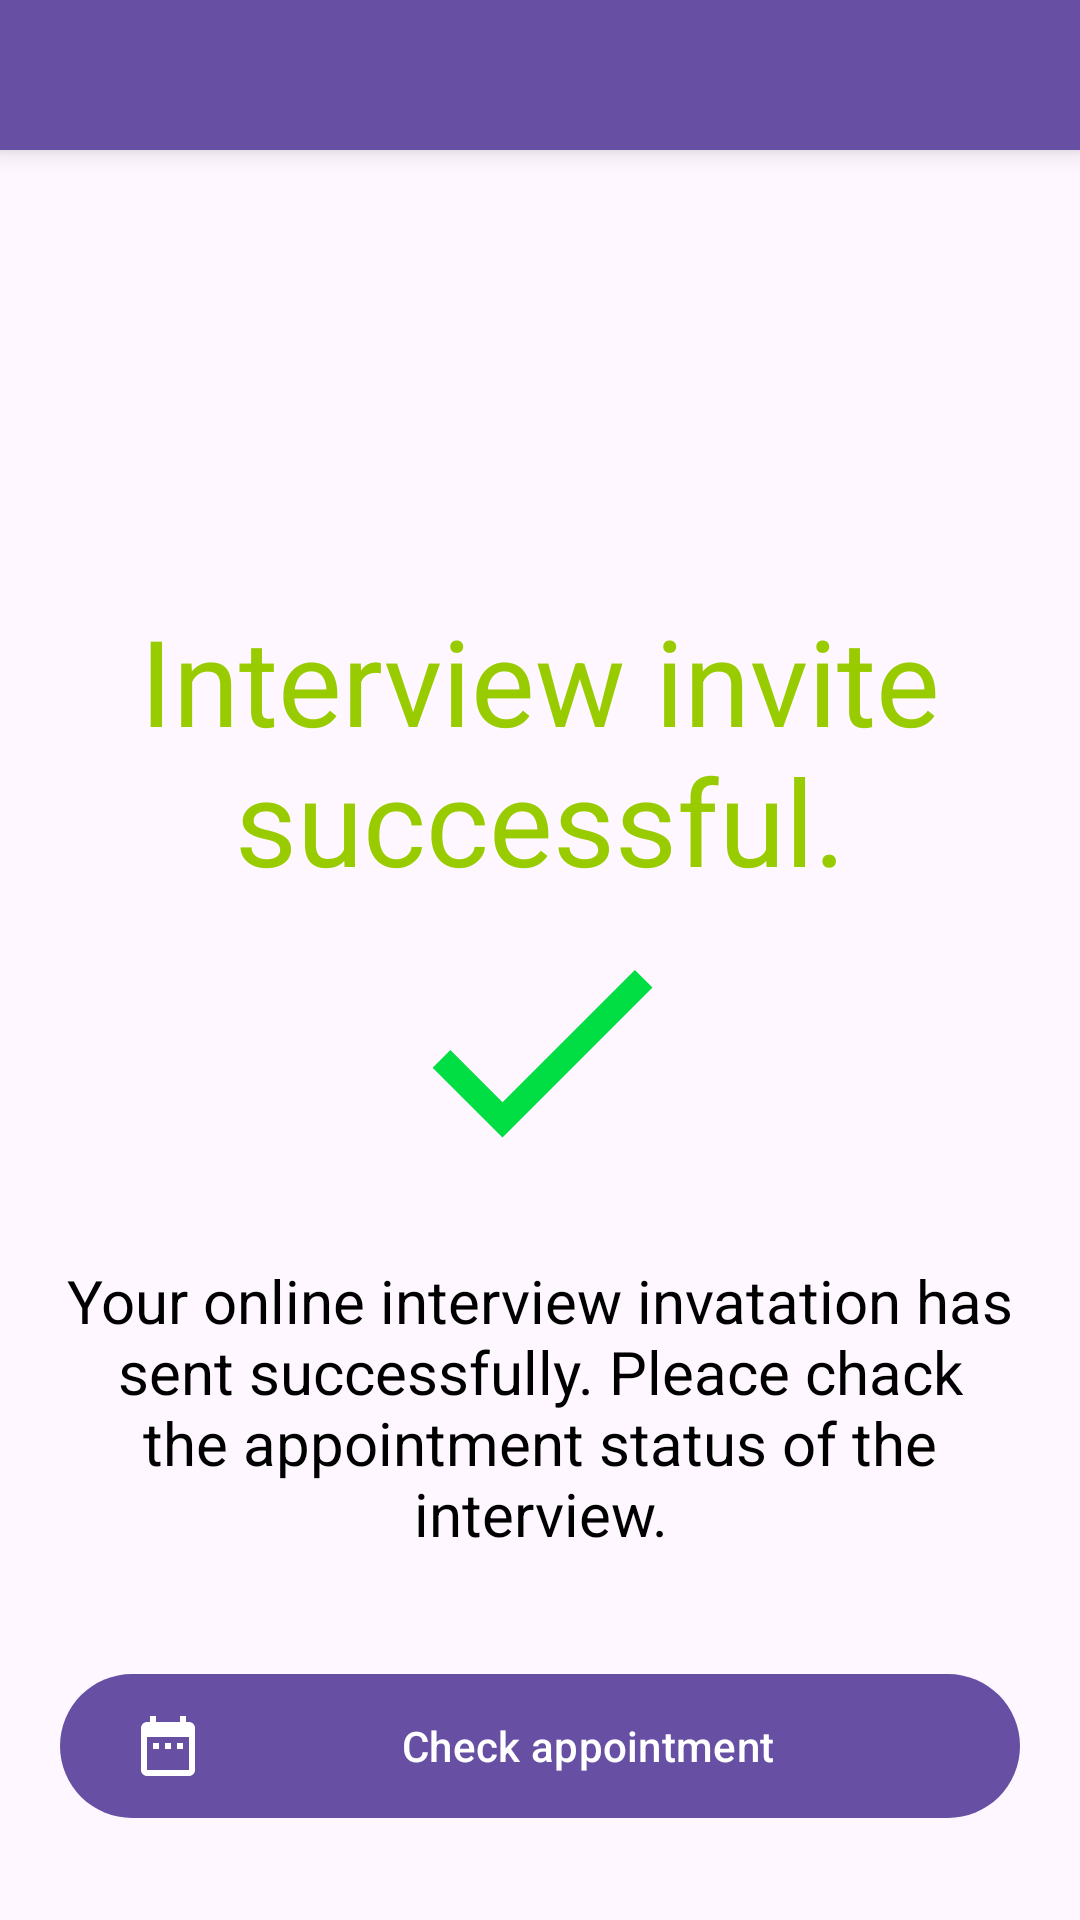

Icon click points for this 1080 x 1920 phone screenshot, format (x=x, y=y):
check: (x=542, y=1054)
